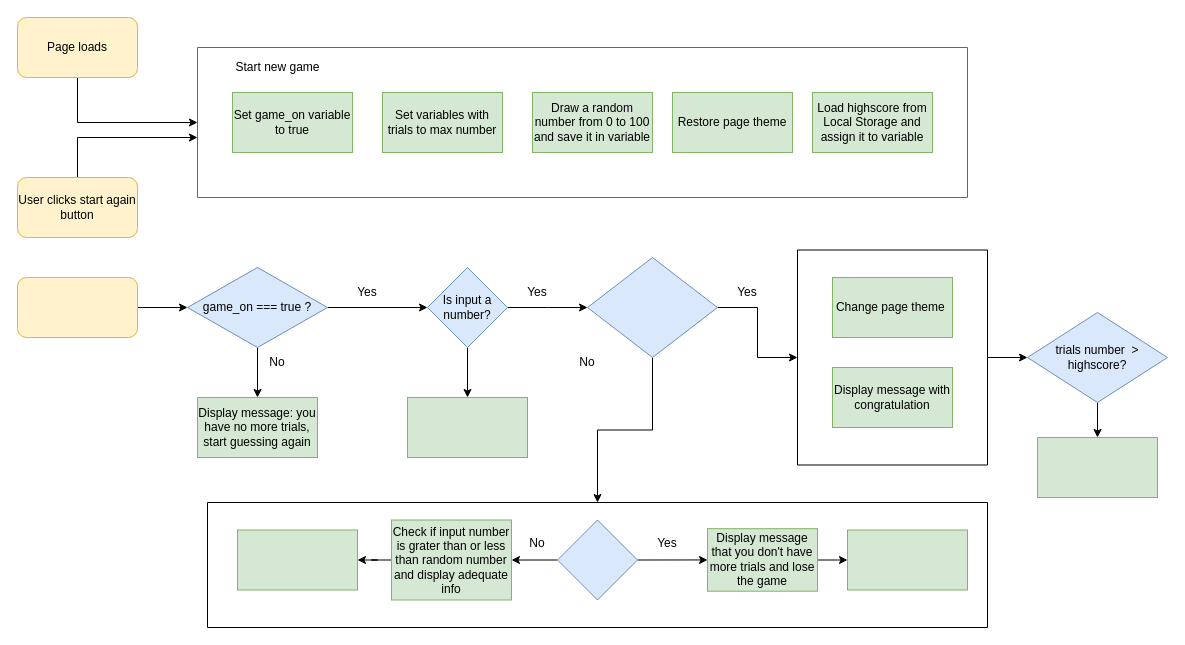
Some shapes in this 1185 by 645 pixel diagram are drawn without their labels. The shapes that lost their labels are listed below. From the top down, each one's centre as x and y in pixels, then its label:
pixel 77 307: User inputs number
pixel 652 307: input number === random number ?
pixel 467 427: DIsplay message that input have to be number
pixel 1097 467: Save new highscore in Local Storage
pixel 297 559: Decrement the trials variable
pixel 597 559: Is trials number === 1?
pixel 907 559: change game_on variable value to false
